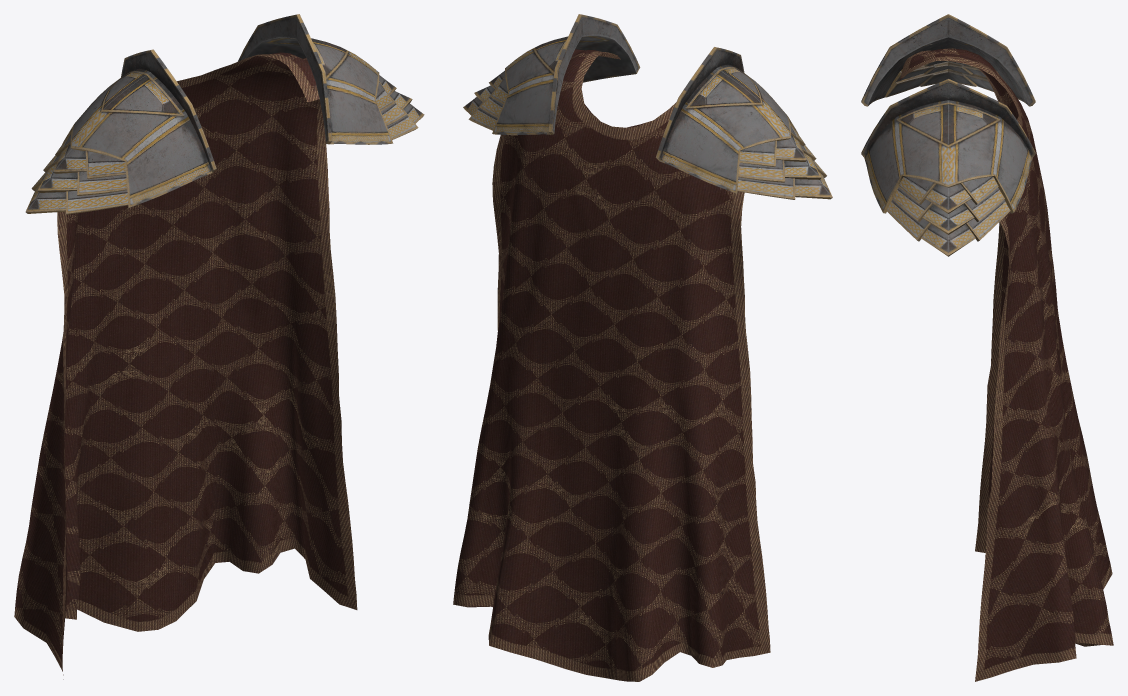
File: sk_dwarf_dain_pauldron_heavy_d.fbx
3 views of the same model, side by side, from view 1: azimuth 30°, elevation 25°; view 2: azimuth 150°, elevation 25°; view 3: azimuth 270°, elevation 25° (orthographic). The views are drawn at different scales.
Parts seen in each view (by area): view 1: sk_dwarf_dain_pauldron_heavy_d.cloth, sk_dwarf_dain_pauldron_heavy_d.base; view 2: sk_dwarf_dain_pauldron_heavy_d.cloth, sk_dwarf_dain_pauldron_heavy_d.base; view 3: sk_dwarf_dain_pauldron_heavy_d.cloth, sk_dwarf_dain_pauldron_heavy_d.base.
Part boxes in pixels (box(x1,y1,x2,y2)): sk_dwarf_dain_pauldron_heavy_d.cloth: box(14, 52, 357, 679); sk_dwarf_dain_pauldron_heavy_d.base: box(25, 14, 424, 214); sk_dwarf_dain_pauldron_heavy_d.cloth: box(453, 49, 770, 681); sk_dwarf_dain_pauldron_heavy_d.base: box(463, 14, 832, 199); sk_dwarf_dain_pauldron_heavy_d.cloth: box(899, 48, 1113, 681); sk_dwarf_dain_pauldron_heavy_d.base: box(861, 14, 1035, 256).
Size of the model in its own units: 0.8374 by 0.5034 by 1.3.
Materials: 2 (2 with a texture image).
